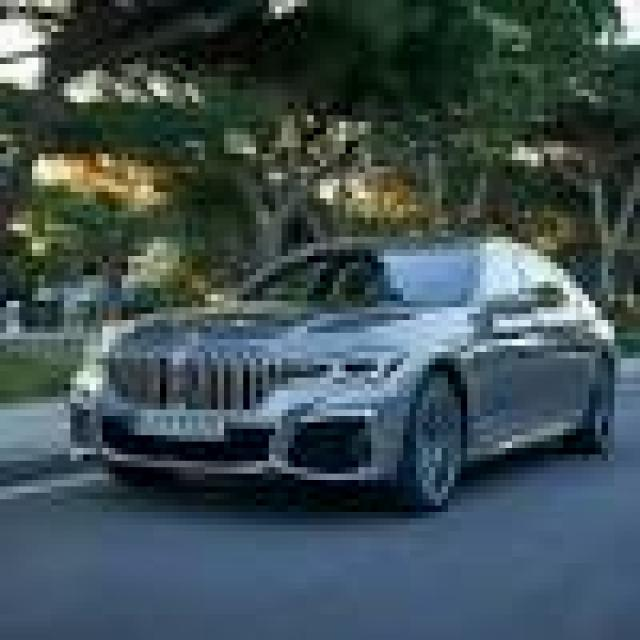SUV: (91, 229, 624, 508)
